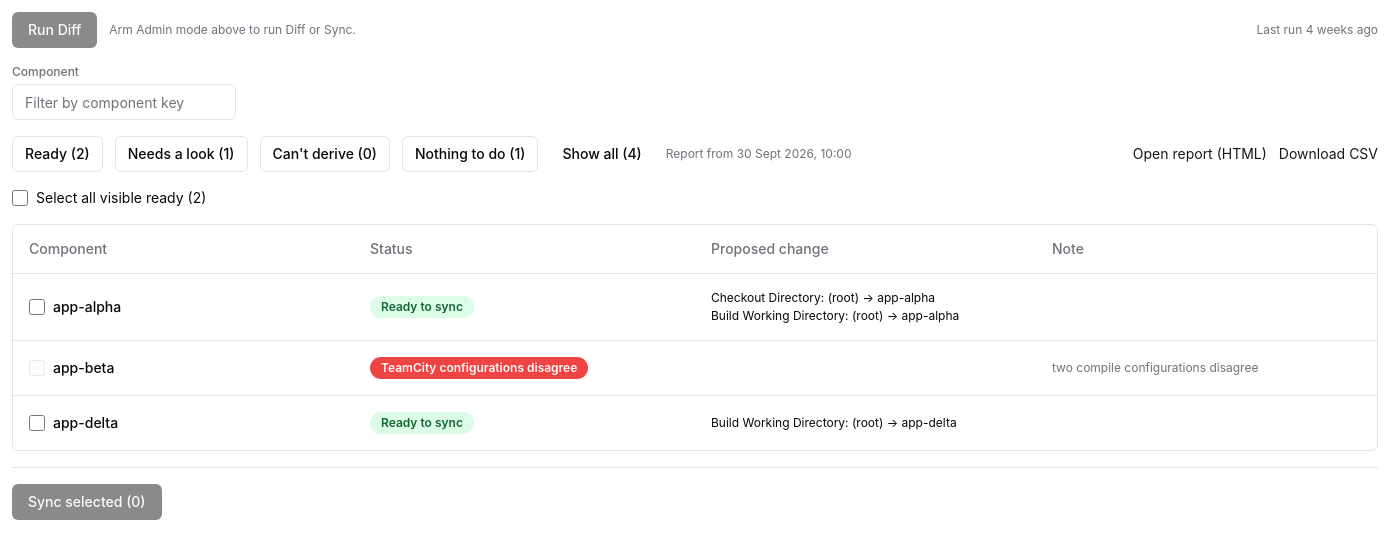
Test case: TeamCityCheckoutLayoutPanel — result table › marks "Select all visible ready" indeterminate when only some visible ready rows are selected
Click the checkbox named "Select app-alpha" at x=37, y=306, box [29,298,45,314]
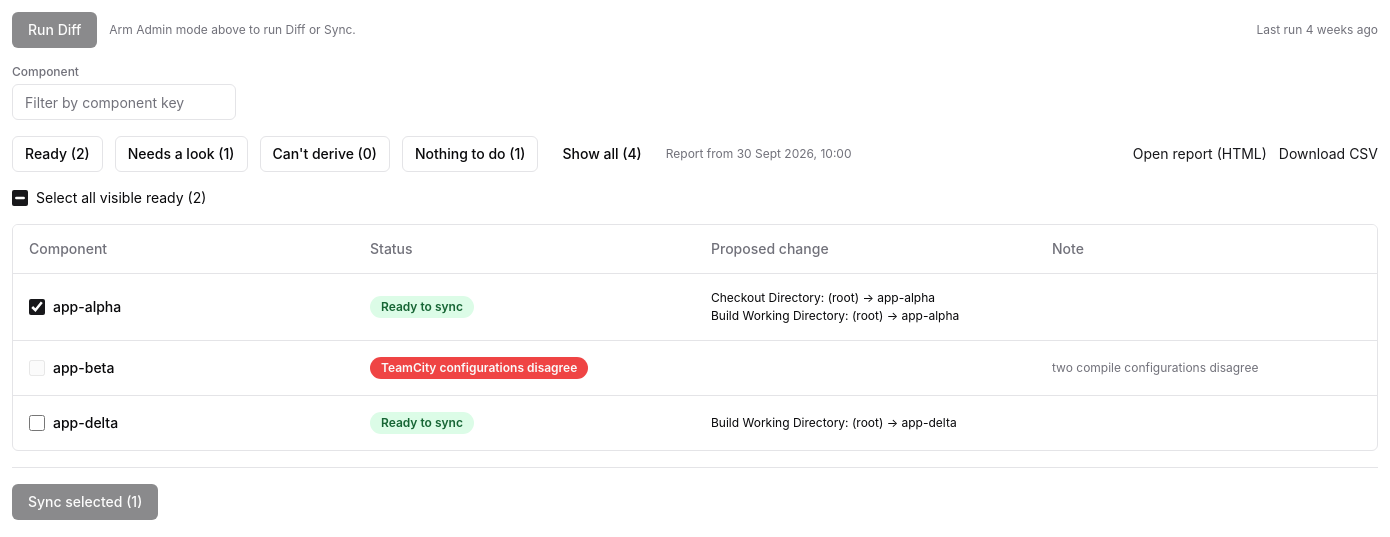
Expected: the checkbox labelled "Select all visible ready (2)" is not checked, [12,190,28,206]
Click the checkbox named "Select app-delta" at x=37, y=422, box [29,414,45,430]
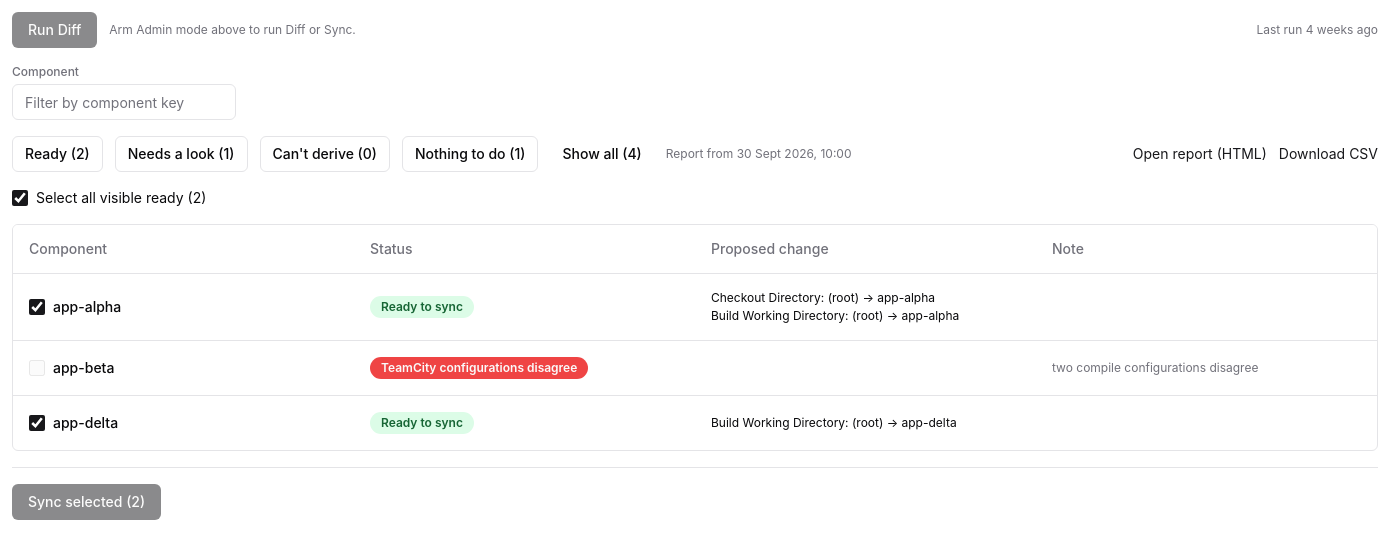
Expected: the checkbox labelled "Select all visible ready (2)" is checked, [12,190,28,206]
